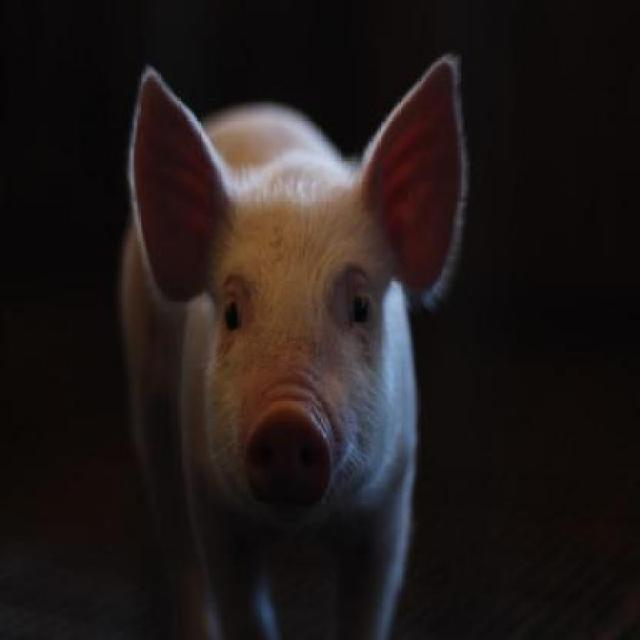pig: (121, 56, 466, 640)
